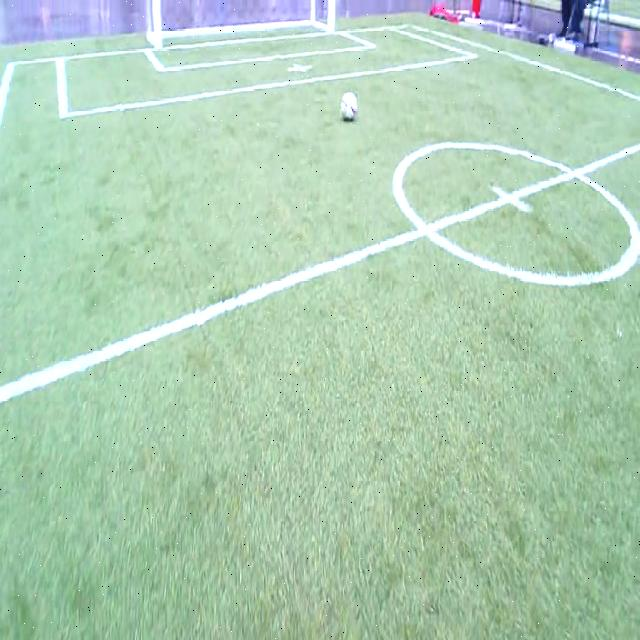ball: (340, 91, 358, 122)
